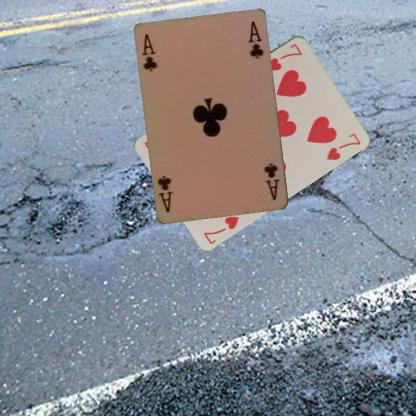7h: (201, 212, 240, 246), (265, 40, 304, 72)
Ac: (139, 31, 159, 73), (262, 160, 281, 202)
